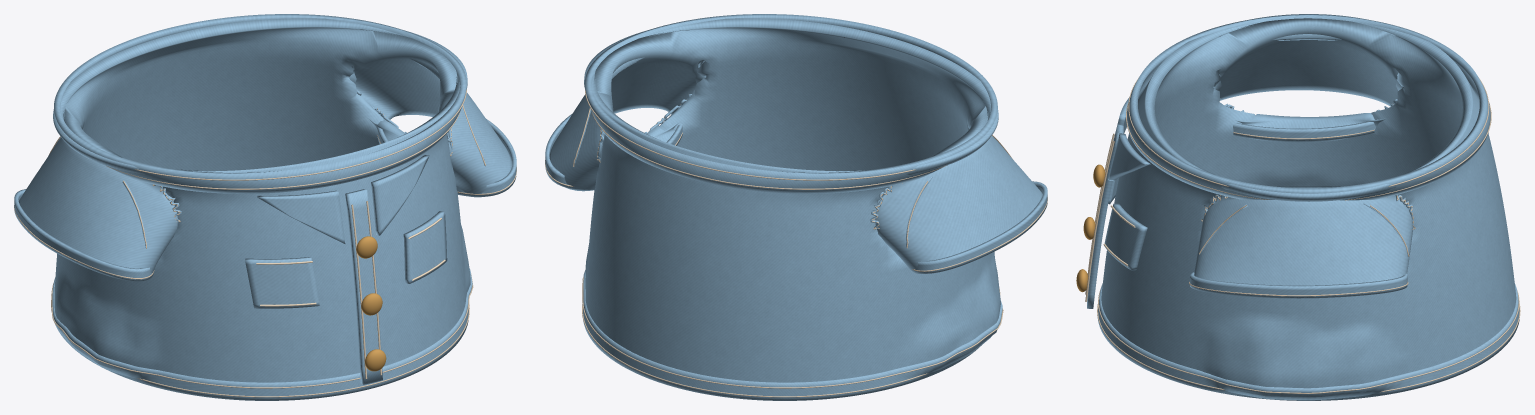
The model's file is sewn_jacket_denim_penguin.glb.
3 renders of one model, left to right at view 1: azimuth 30°, elevation 25°; view 2: azimuth 150°, elevation 25°; view 3: azimuth 270°, elevation 25°, orthographic.
Parts seen in each view (by area): view 1: Manga adaptada · Camiseta cosida continua, Dobladillo de algodón · Cuello, Dobladillo de algodón · Bajo, Panel · bolsillo pecho -1, Panel · tapeta central cosida, Panel · solapa -1, Panel · bolsillo pecho 1, Panel · solapa 1, Dobladillo de manga cosida -1, Dobladillo de manga cosida 1, Pespunte · Bajo.001, Pespunte · Bajo (+2 smaller); view 2: Manga adaptada · Camiseta cosida continua, Dobladillo de algodón · Cuello, Dobladillo de algodón · Bajo, Dobladillo de manga cosida -1, Pespunte · Bajo.001, Dobladillo de manga cosida 1, Pespunte · Bajo, Pespunte · Cuello.001, Pespunte · Cuello; view 3: Manga adaptada · Camiseta cosida continua, Dobladillo de algodón · Cuello, Dobladillo de algodón · Bajo, Dobladillo de manga cosida 1, Dobladillo de manga cosida -1, Panel · bolsillo pecho 1, Panel · tapeta central cosida, Panel · solapa 1, Pespunte · Bajo.001, Pespunte · Bajo, Pespunte · Cuello, Pespunte · Cuello.001 (+1 smaller).
Part boxes in pixels (bbox=[...]): Manga adaptada · Camiseta cosida continua: bbox=[18, 18, 512, 382]; Dobladillo de algodón · Cuello: bbox=[54, 14, 466, 193]; Dobladillo de algodón · Bajo: bbox=[52, 268, 472, 400]; Panel · bolsillo pecho -1: bbox=[245, 257, 319, 308]; Panel · tapeta central cosida: bbox=[345, 189, 382, 384]; Panel · solapa -1: bbox=[257, 190, 345, 243]; Panel · bolsillo pecho 1: bbox=[403, 211, 447, 283]; Panel · solapa 1: bbox=[371, 155, 429, 235]; Dobladillo de manga cosida -1: bbox=[14, 189, 153, 281]; Dobladillo de manga cosida 1: bbox=[377, 119, 516, 196]; Pespunte · Bajo.001: bbox=[51, 273, 473, 388]; Pespunte · Bajo: bbox=[51, 300, 469, 397]; Manga adaptada · Camiseta cosida continua: bbox=[549, 18, 1042, 382]; Dobladillo de algodón · Cuello: bbox=[585, 14, 997, 193]; Dobladillo de algodón · Bajo: bbox=[583, 270, 1002, 400]; Dobladillo de manga cosida -1: bbox=[910, 181, 1047, 273]; Pespunte · Bajo.001: bbox=[582, 277, 1003, 388]; Dobladillo de manga cosida 1: bbox=[545, 114, 682, 189]; Pespunte · Bajo: bbox=[582, 304, 928, 397]; Pespunte · Cuello.001: bbox=[585, 90, 916, 180]; Pespunte · Cuello: bbox=[591, 112, 947, 189]; Manga adaptada · Camiseta cosida continua: bbox=[1101, 14, 1516, 397]; Dobladillo de algodón · Cuello: bbox=[1127, 15, 1490, 200]; Dobladillo de algodón · Bajo: bbox=[1097, 283, 1519, 400]; Dobladillo de manga cosida 1: bbox=[1190, 271, 1407, 298]; Dobladillo de manga cosida -1: bbox=[1232, 121, 1375, 141]; Panel · bolsillo pecho 1: bbox=[1104, 203, 1147, 270]; Panel · tapeta central cosida: bbox=[1087, 124, 1123, 308]; Panel · solapa 1: bbox=[1108, 133, 1150, 180]; Pespunte · Bajo.001: bbox=[1098, 290, 1519, 393]; Pespunte · Bajo: bbox=[1097, 304, 1520, 392]; Pespunte · Cuello: bbox=[1126, 103, 1491, 200]; Pespunte · Cuello.001: bbox=[1128, 77, 1489, 186].
Size of the model in its own units: 0.6654 by 0.3077 by 0.577.
4 materials, 1 textured.
